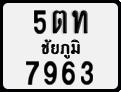letters: (52, 10, 68, 34), (72, 10, 88, 34), (61, 60, 76, 85), (25, 60, 39, 86), (43, 60, 57, 86), (80, 60, 94, 85), (33, 9, 46, 34)
province: (41, 38, 80, 59)
